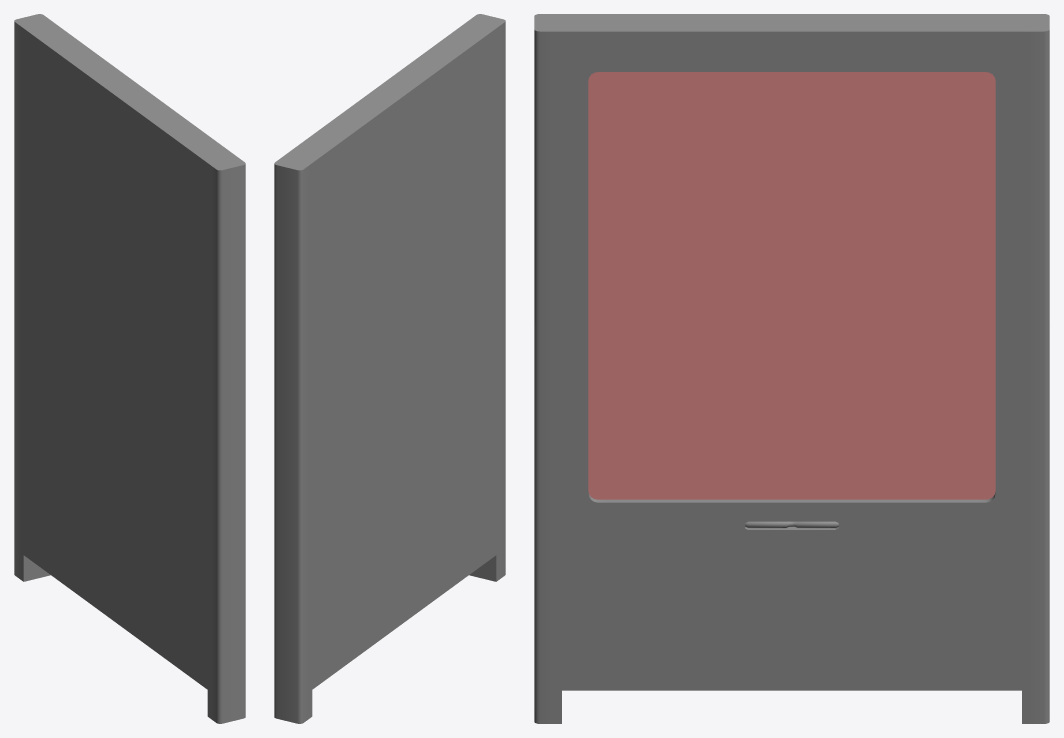
Rendered from S_Envi_FZFBase_Wall_02i.gltf.
3 renders of one model, left to right at view 1: azimuth 30°, elevation 25°; view 2: azimuth 150°, elevation 25°; view 3: azimuth 270°, elevation 25°, orthographic. The views are drawn at different scales.
Visible parts, largest first — view 1: S_Envi_FZFBase_Wall_02i; view 2: S_Envi_FZFBase_Wall_02i; view 3: S_Envi_FZFBase_Wall_02i.
Boxes of the visible parts, left/top/right/bottom form: S_Envi_FZFBase_Wall_02i: left=14, top=14, right=245, bottom=723; S_Envi_FZFBase_Wall_02i: left=274, top=14, right=505, bottom=723; S_Envi_FZFBase_Wall_02i: left=534, top=14, right=1049, bottom=723.
Size of the model in its own units: 0.45 by 8.3 by 5.6.
